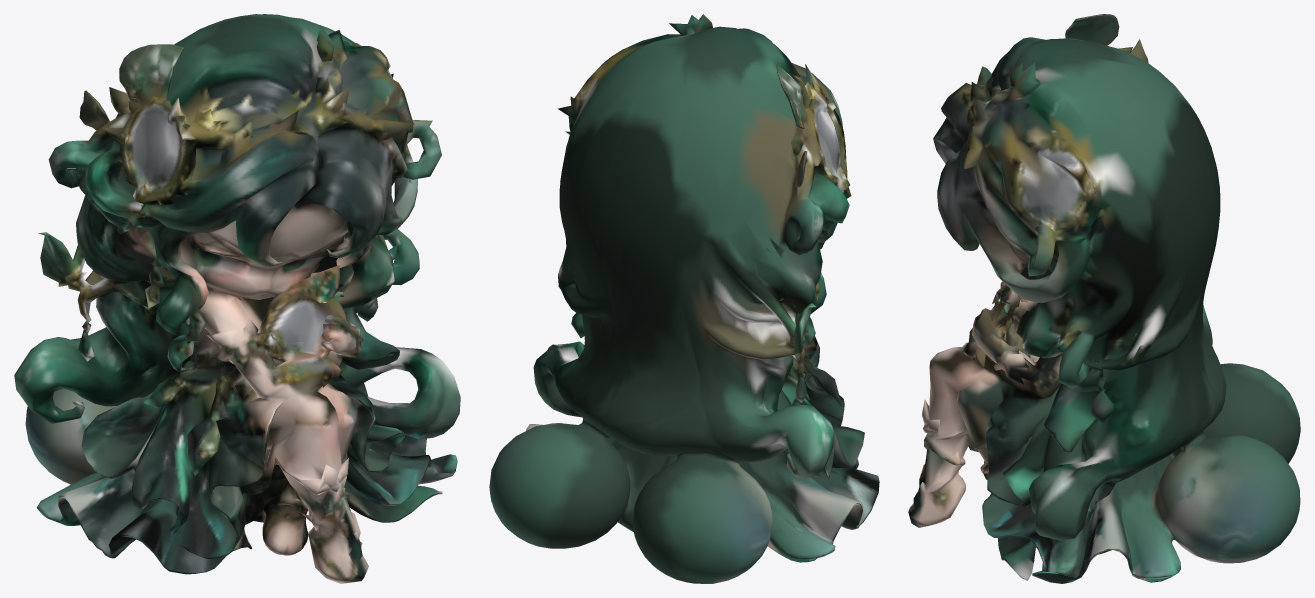
Rendered from envy_painted.glb.
The picture shows the model from 3 angles, left to right: view 1: azimuth 30°, elevation 25°; view 2: azimuth 150°, elevation 25°; view 3: azimuth 270°, elevation 25°; orthographic projection. The views are drawn at different scales.
Visible parts, largest first — view 1: Body; view 2: Body; view 3: Body.
Boxes of the visible parts, box(x1,y1,x2,y2) form: Body: box(14, 14, 460, 583); Body: box(489, 14, 879, 583); Body: box(908, 14, 1300, 583).
Size of the model in its own units: 0.7682 by 0.9969 by 0.7486.
1 material, 1 textured.
